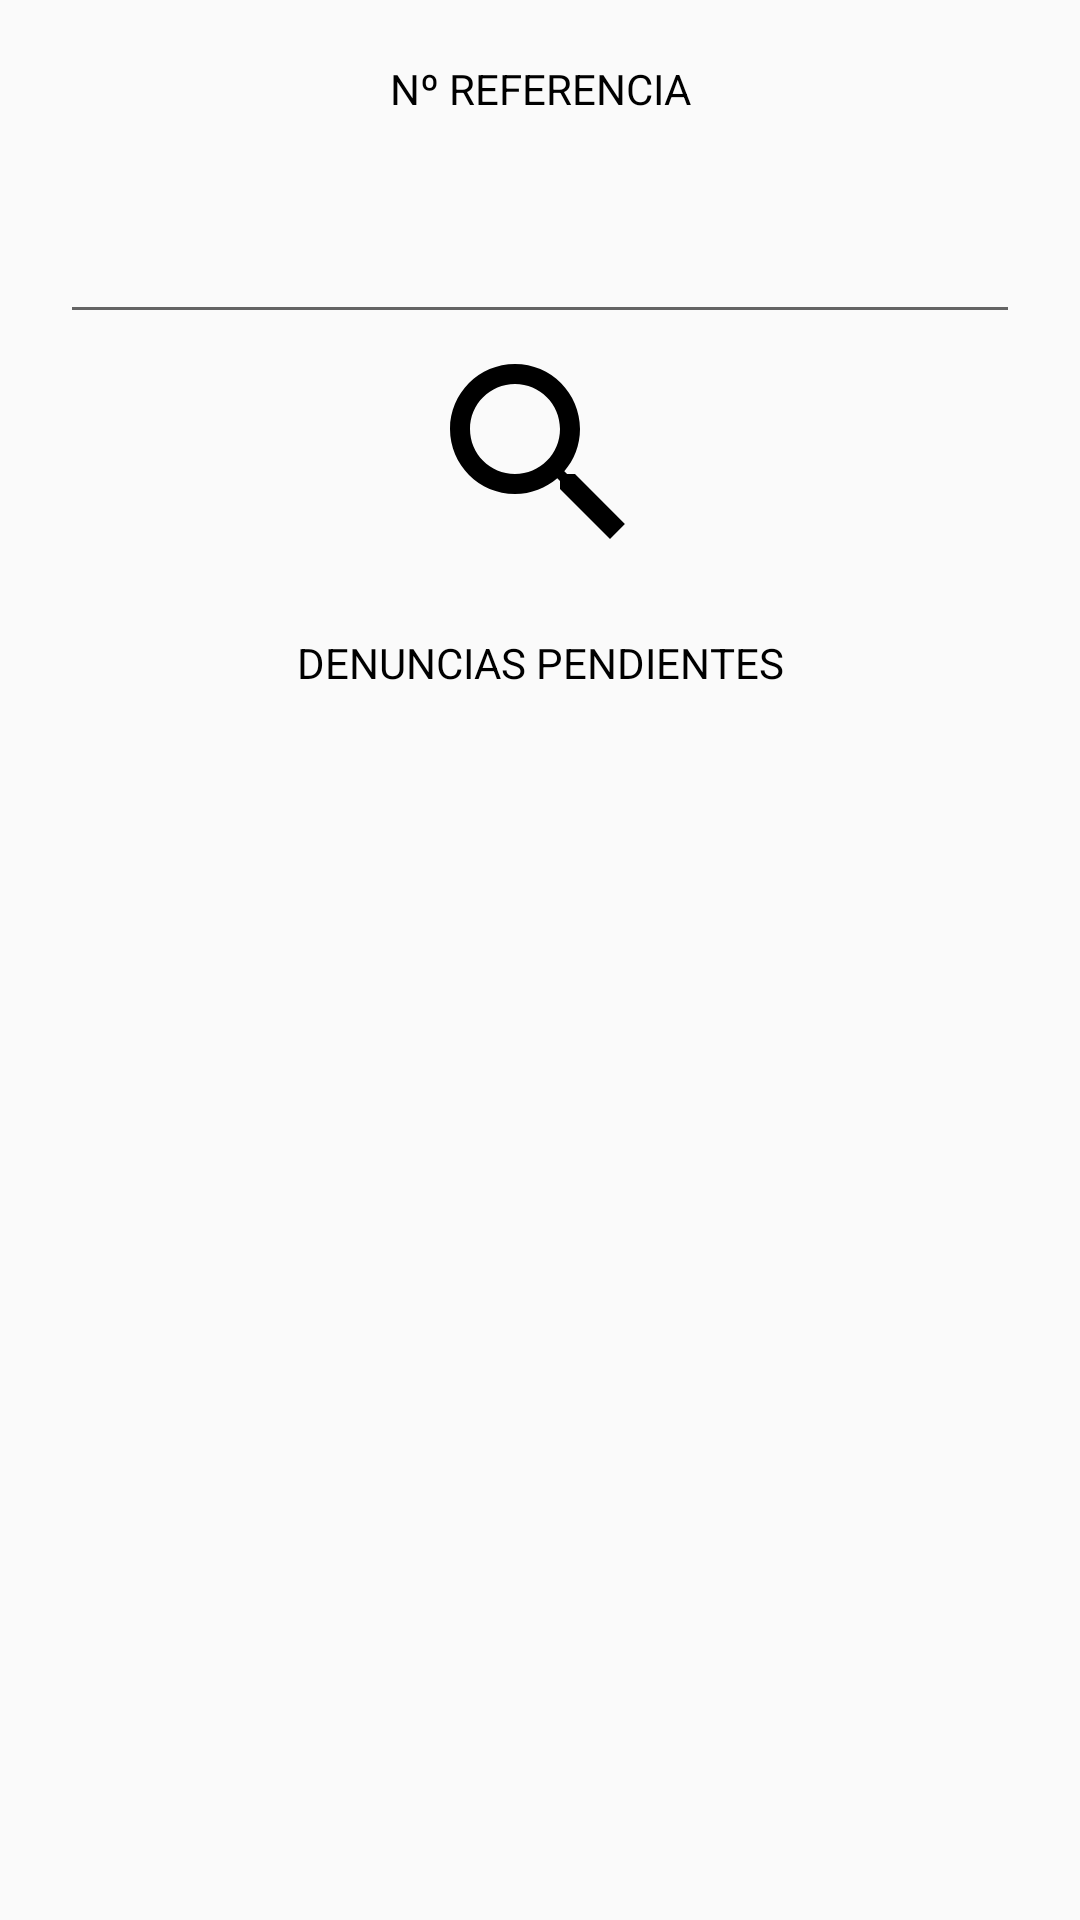

Named icons in this screenshot (1080w x 1920h) and their centers, (x=x, y=y):
buscar: (x=537, y=451)
